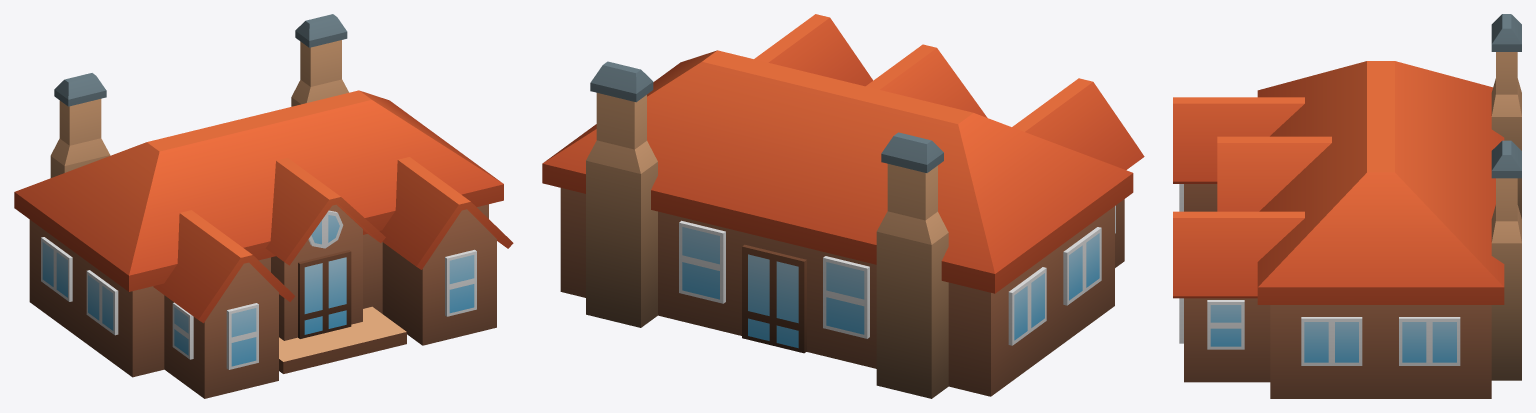
File: cute house 2.fbx
The picture shows the model from 3 angles, left to right: view 1: azimuth 30°, elevation 25°; view 2: azimuth 150°, elevation 25°; view 3: azimuth 270°, elevation 25°; orthographic projection. The views are drawn at different scales.
Visible parts, largest first — view 1: cute_house_2_new; view 2: cute_house_2_new; view 3: cute_house_2_new.
Part boxes in pixels (x1,y1,x2,y2): cute_house_2_new: (14, 14, 513, 398); cute_house_2_new: (542, 14, 1144, 398); cute_house_2_new: (1173, 14, 1521, 398).
Bounding box in the file's own units: 1109 × 580 × 830.
Materials: 1 (1 with a texture image).
